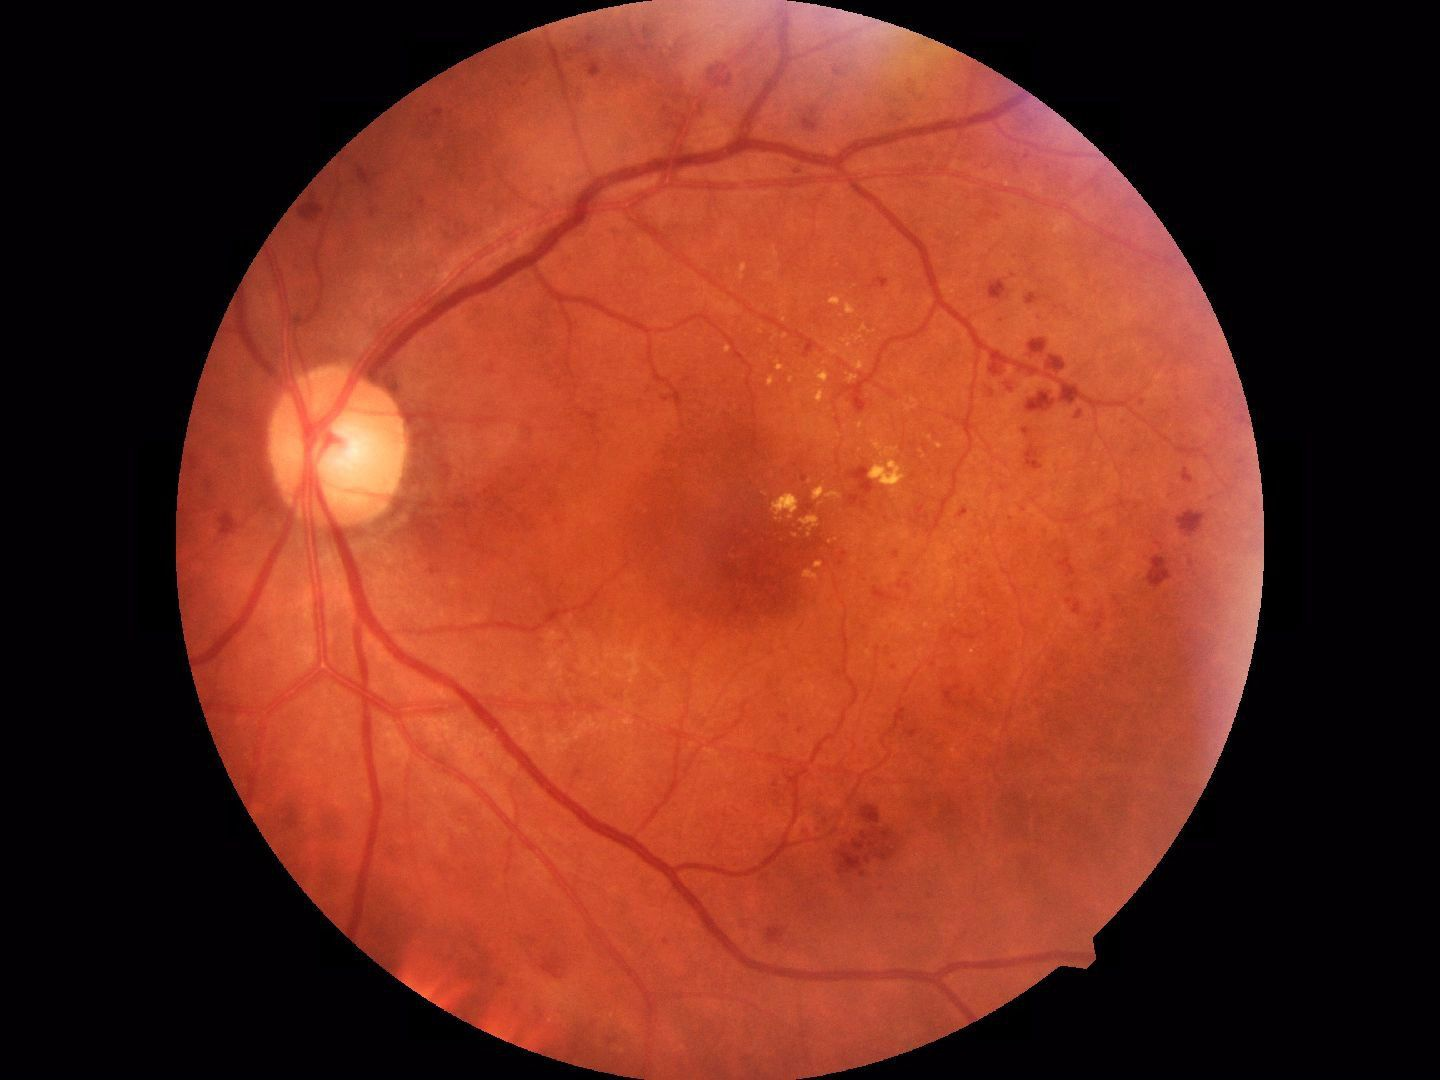Exudates: (782, 475, 835, 551), (866, 442, 910, 503)
Hemorrhages: (645, 417, 776, 621)
Microaneurysms: (984, 281, 1076, 413), (822, 788, 909, 889), (1146, 493, 1209, 624)
Optic-Disc: (255, 356, 435, 552)
Venules: (620, 104, 801, 222)
